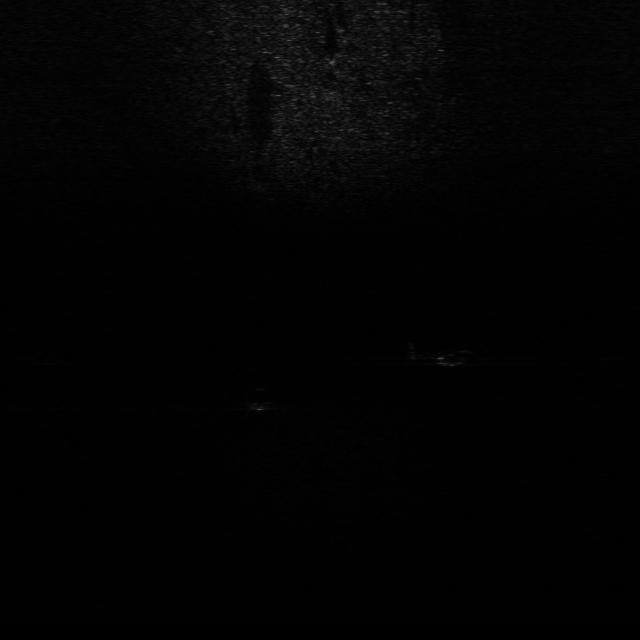ball: (242, 385, 287, 415)
human body: (406, 340, 483, 372)
